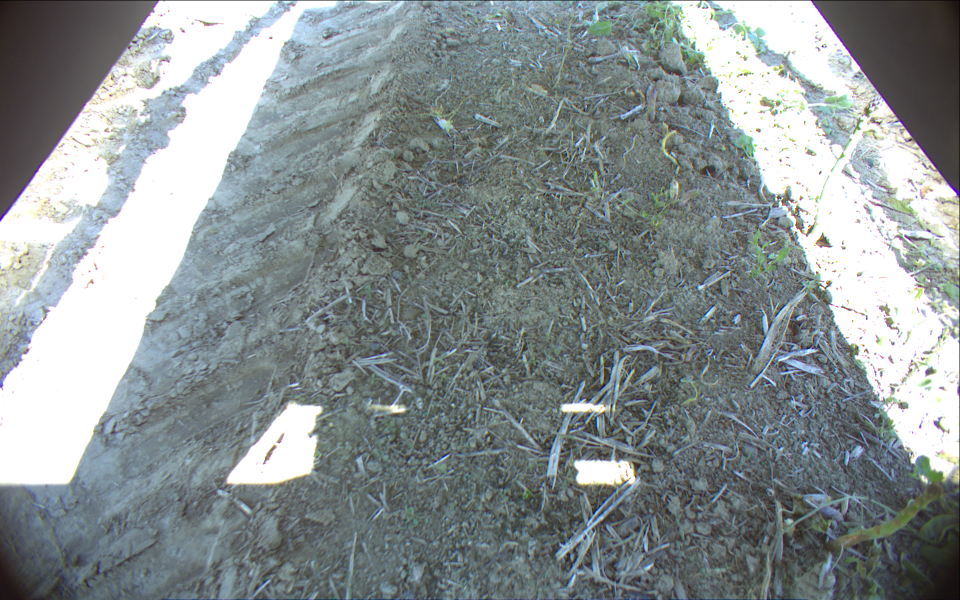aspa: (800, 96, 879, 249), (827, 478, 945, 556)
